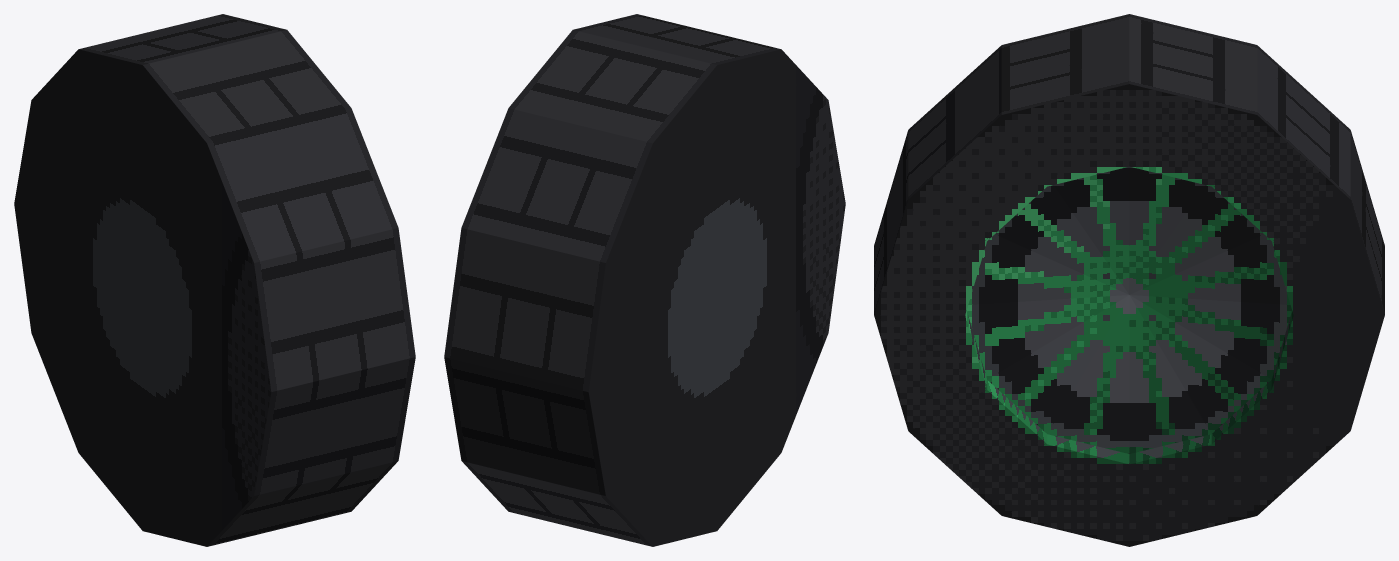
File: wheel_rally.glb
The picture shows the model from 3 angles, left to right: view 1: azimuth 30°, elevation 25°; view 2: azimuth 150°, elevation 25°; view 3: azimuth 270°, elevation 25°; orthographic projection.
Visible parts, largest first — view 1: wheel_rally; view 2: wheel_rally; view 3: wheel_rally.
Part boxes in pixels (x1,y1,x2,y2): wheel_rally: (14, 14, 415, 546); wheel_rally: (444, 14, 845, 546); wheel_rally: (874, 14, 1384, 546).
Size of the model in its own units: 0.205 by 0.6319 by 0.6319.
Materials: 1 (1 with a texture image).
